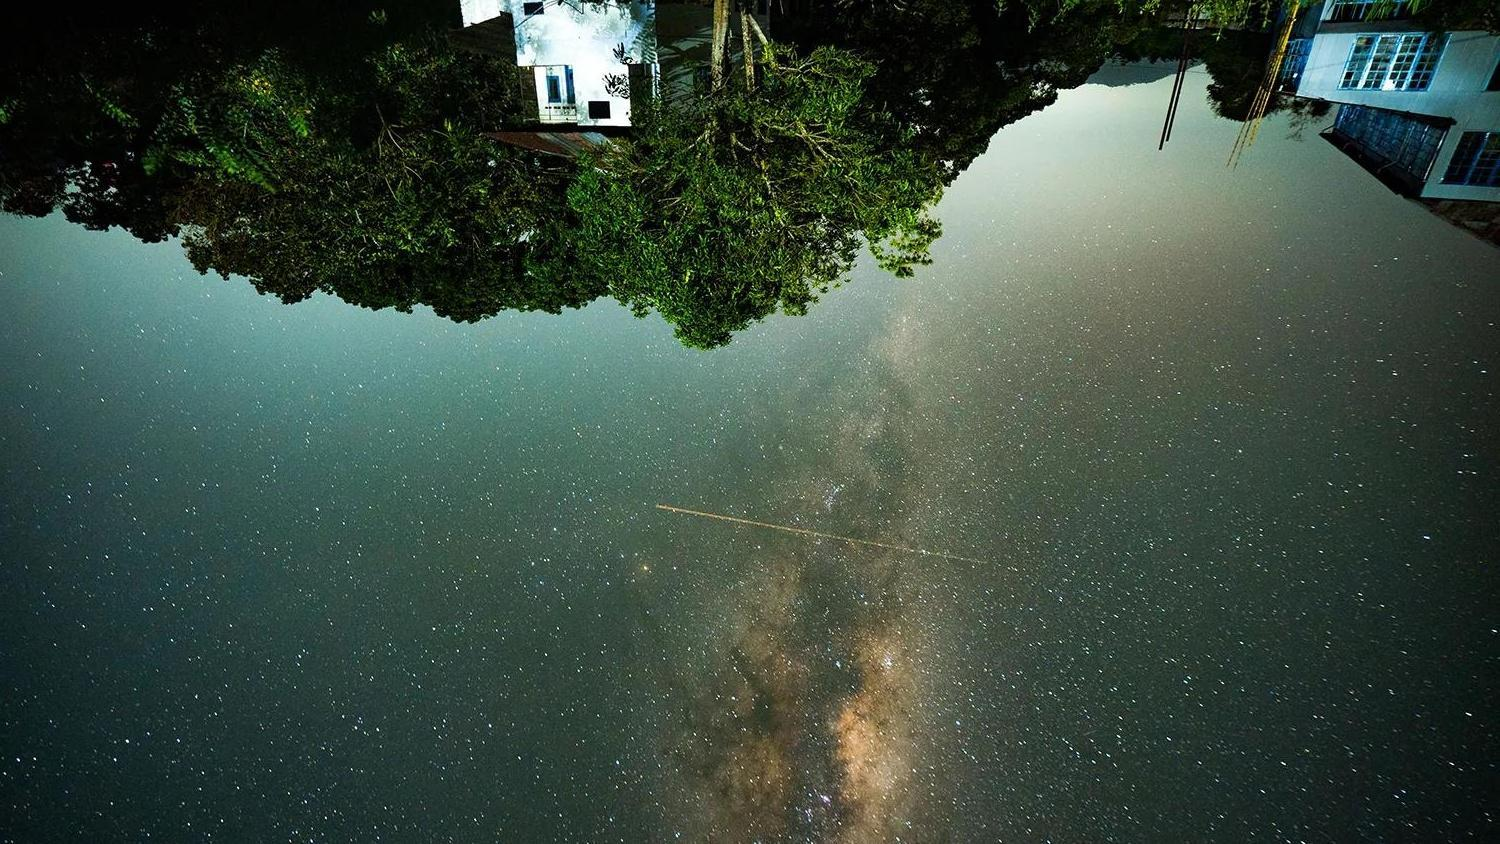meteorite: (619, 496, 841, 537)
